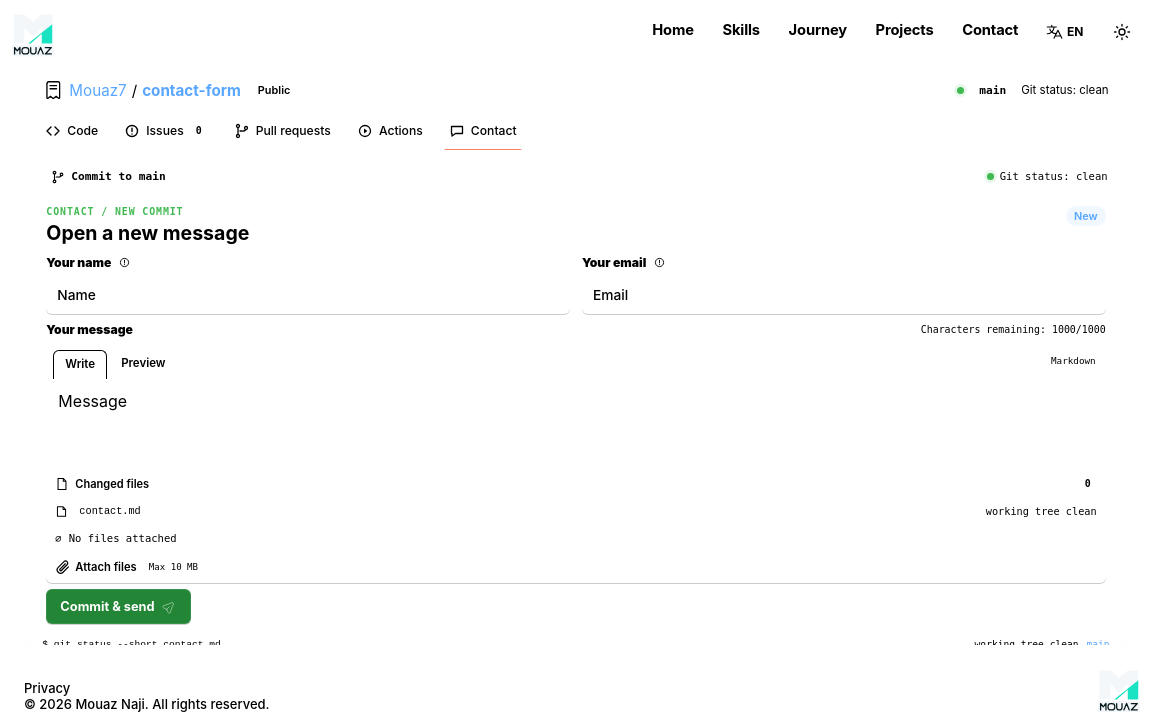
contact send failures and success › explains a prepare failure with code rate_limited
Type "Mouaz Test" into the field with id "contact-mobile-name" at (308, 295), box [46, 277, 570, 314]
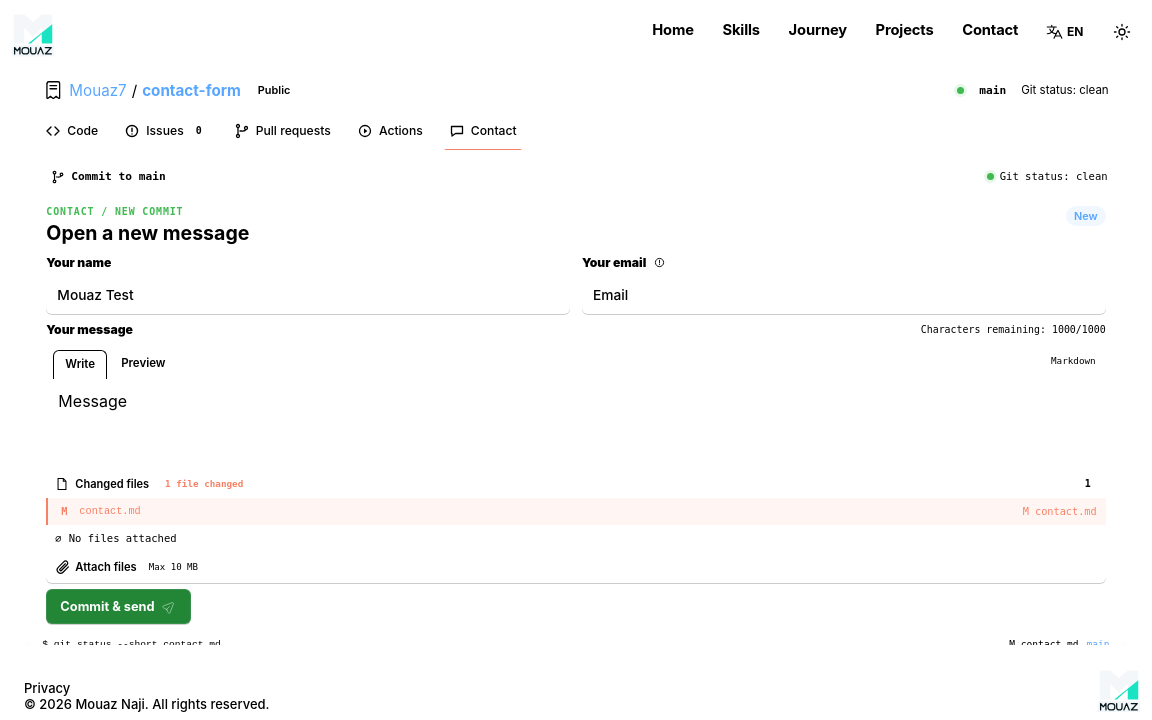
Type "test@example.com" into the field with id "contact-mobile-email" at (844, 295), box [582, 277, 1106, 314]
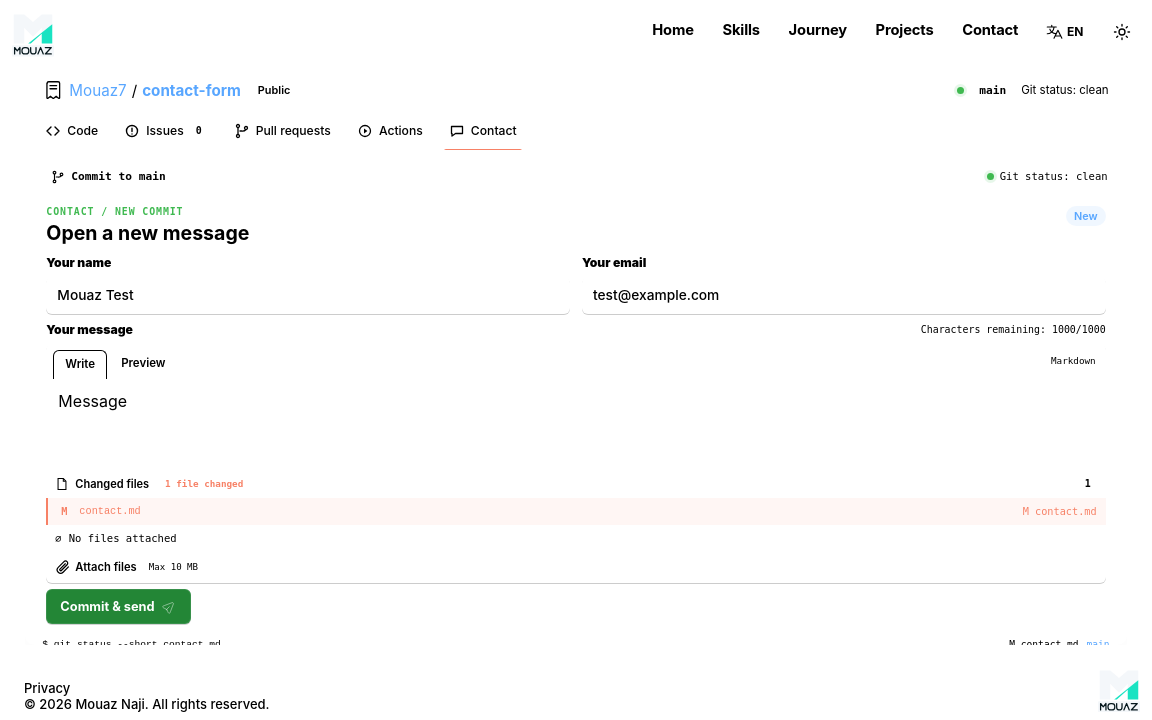
Type "A secure contact test." into the text box with id "contact-mobile-message" at (576, 424), box [46, 378, 1106, 470]
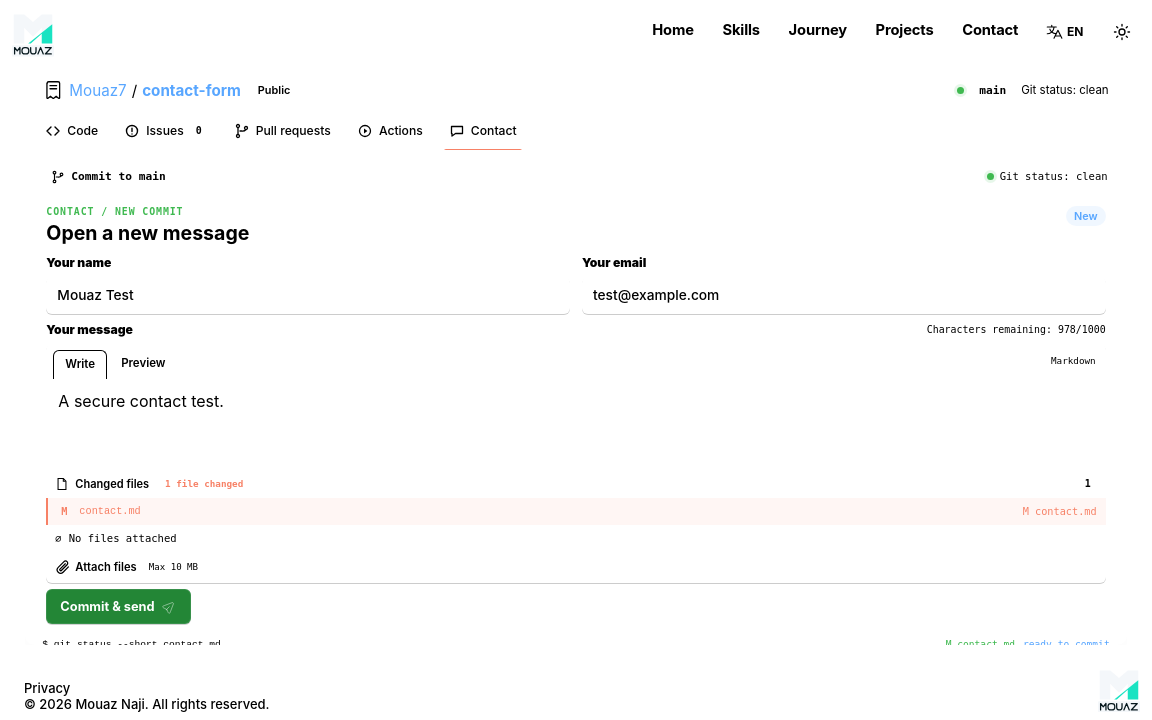
Submit the form named "Contact form"
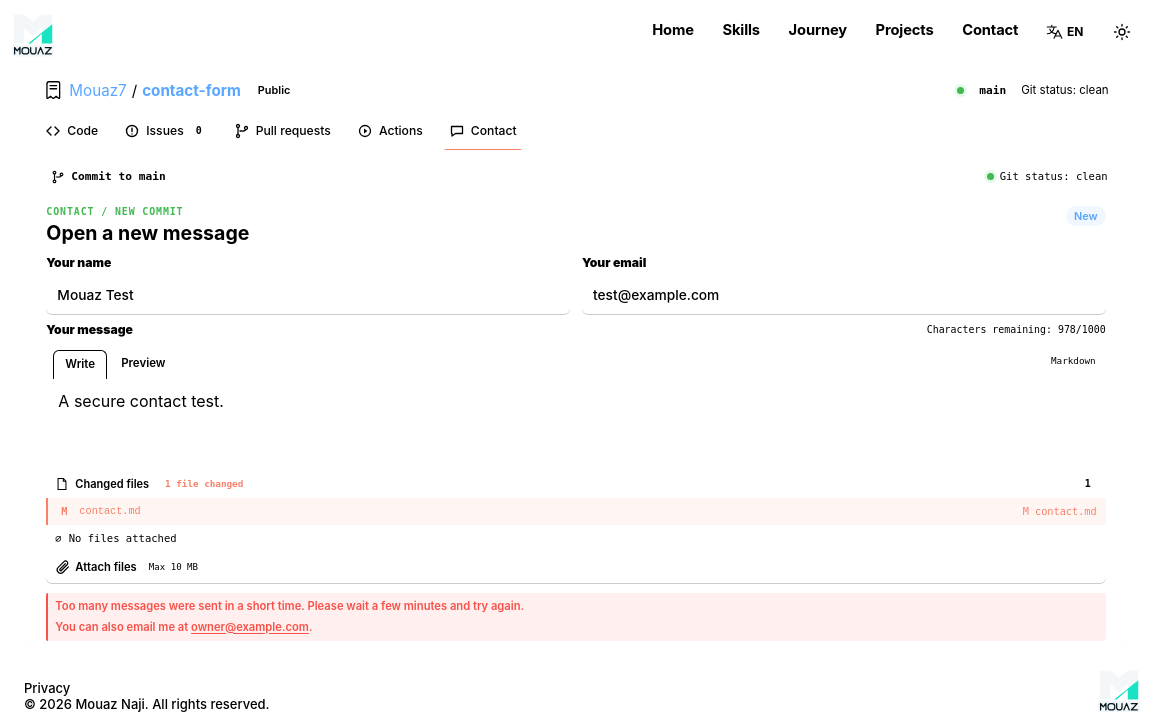
expect the message shows "Too many messages were sent in a short time. Please wait a few minutes and try again.": met, box [55, 599, 524, 613]
expect the message shows "You can also email me at owner@example.com.": met, box [46, 593, 1106, 641]
